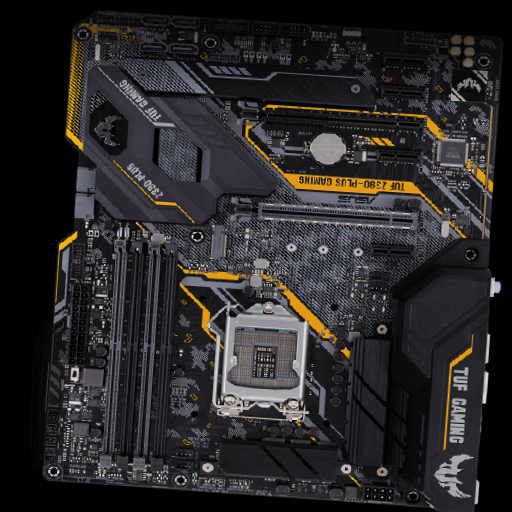CPU: (218, 301, 311, 421)
GPU: (231, 197, 418, 231), (238, 104, 424, 138)
MOTHERBOARD: (39, 18, 501, 508)
RAM: (100, 234, 180, 472)
SSD: (206, 223, 229, 261)
